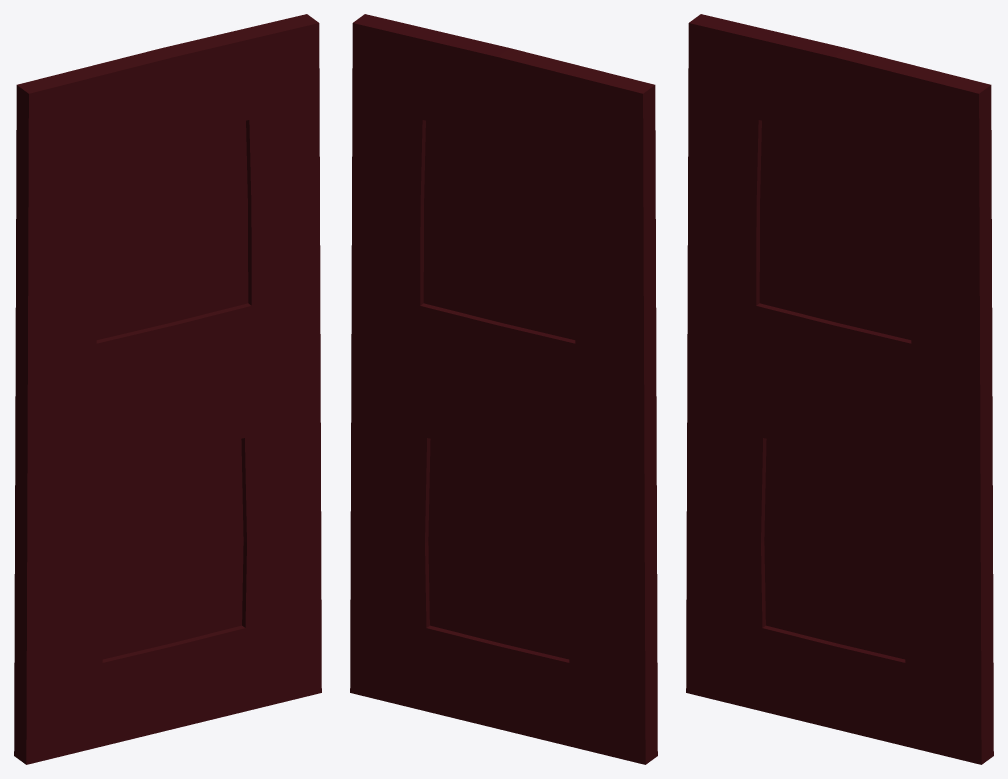
Rendered from MOD_Door.fbx.
3 renders of one model, left to right at view 1: azimuth 30°, elevation 25°; view 2: azimuth 150°, elevation 25°; view 3: azimuth 330°, elevation 25°, orthographic.
Parts seen in each view (by area): view 1: Door; view 2: Door; view 3: Door.
Boxes of the visible parts, <box> form: Door: <box>14,14,321,764</box>; Door: <box>350,14,657,764</box>; Door: <box>686,14,993,764</box>.
Size of the model in its own units: 80.11 by 174 by 5.76.
